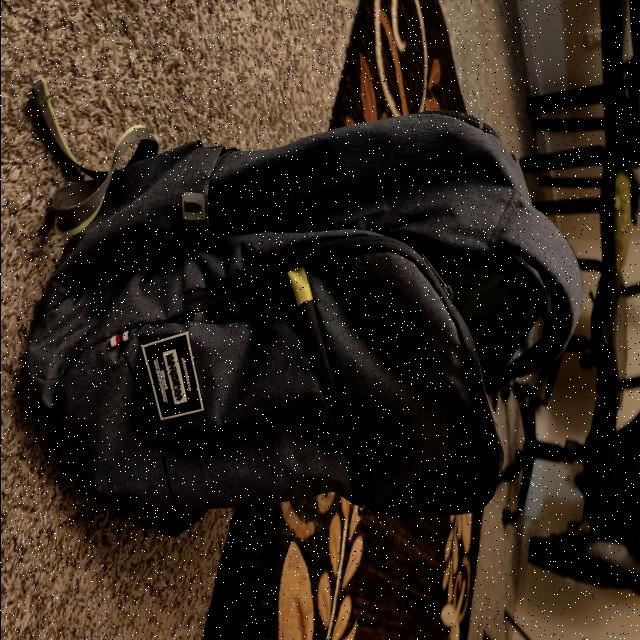bag: (38, 95, 556, 509)
